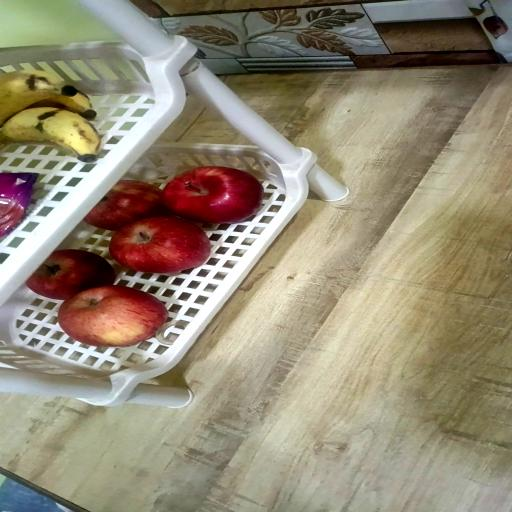Apple: (56, 287, 166, 347), (108, 218, 210, 275), (164, 170, 265, 226), (26, 251, 113, 301), (83, 182, 166, 233)
Choco Pie: (0, 175, 39, 242)
